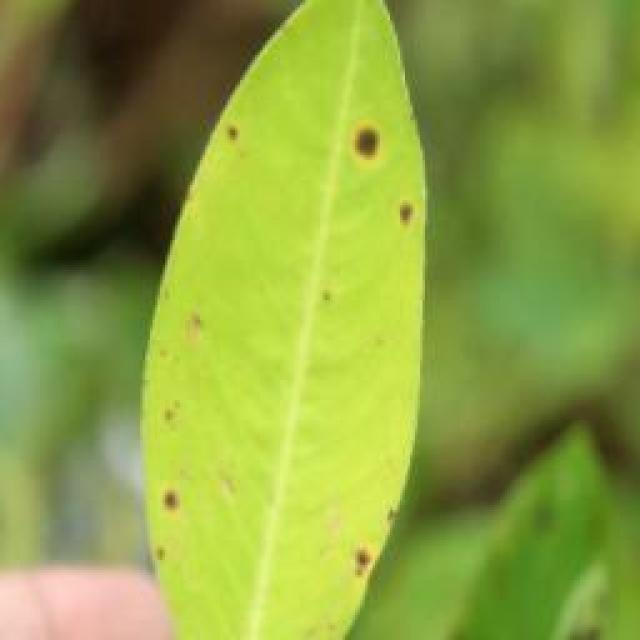Yellowish: (123, 63, 447, 600)
